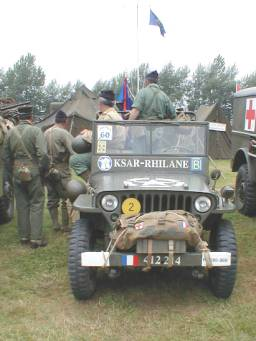license_plate: (139, 254, 186, 269)
